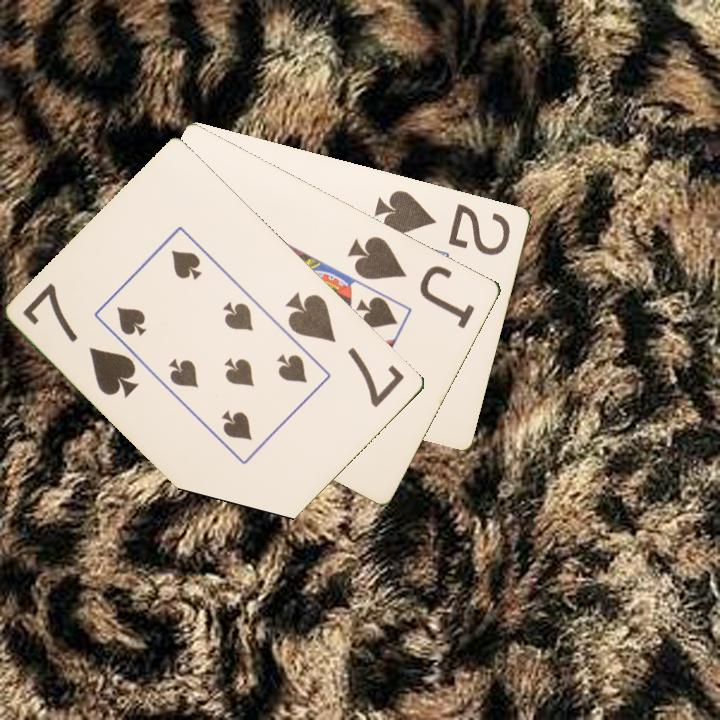2s: (371, 186, 514, 259)
7s: (282, 287, 408, 411), (19, 279, 142, 401)
Js: (344, 232, 478, 332)
